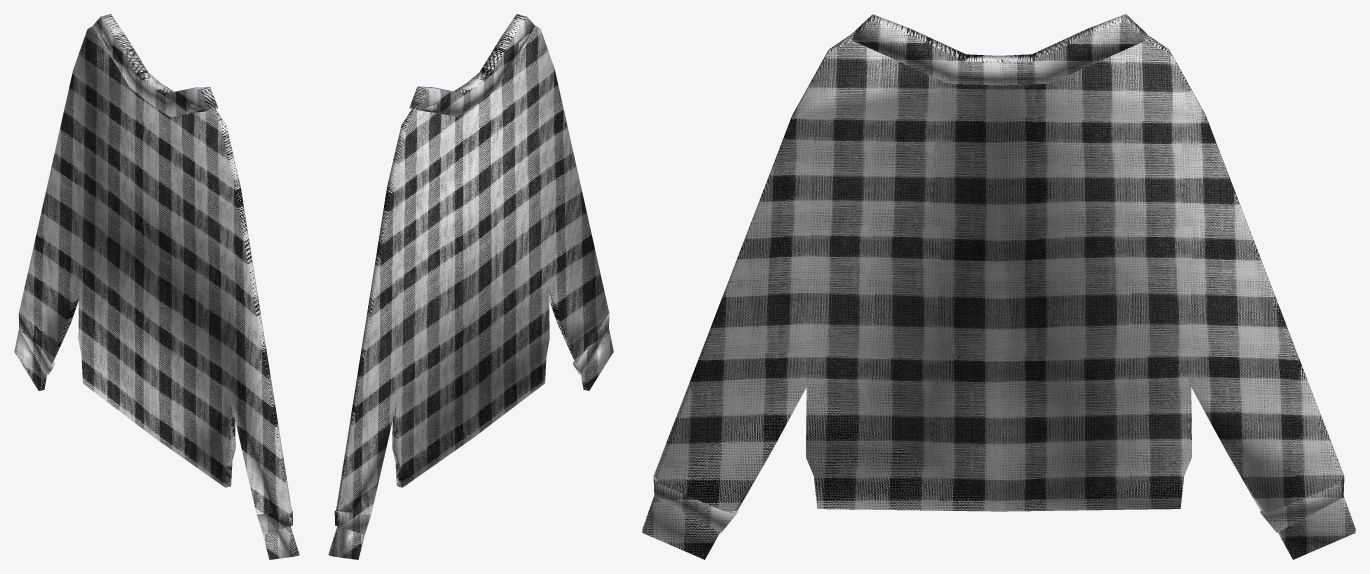
File: sweater5.fbx
3 views of the same model, side by side, from view 1: azimuth 30°, elevation 25°; view 2: azimuth 150°, elevation 25°; view 3: azimuth 270°, elevation 25° (orthographic). The views are drawn at different scales.
Parts seen in each view (by area): view 1: sweater5; view 2: sweater5; view 3: sweater5.
Boxes of the visible parts, x1,y1,x2,y2 form: sweater5: (14,14,299,559); sweater5: (328,14,613,559); sweater5: (642,14,1355,559).
Bounding box in the file's own units: 0.085 × 2.83 × 3.39.
